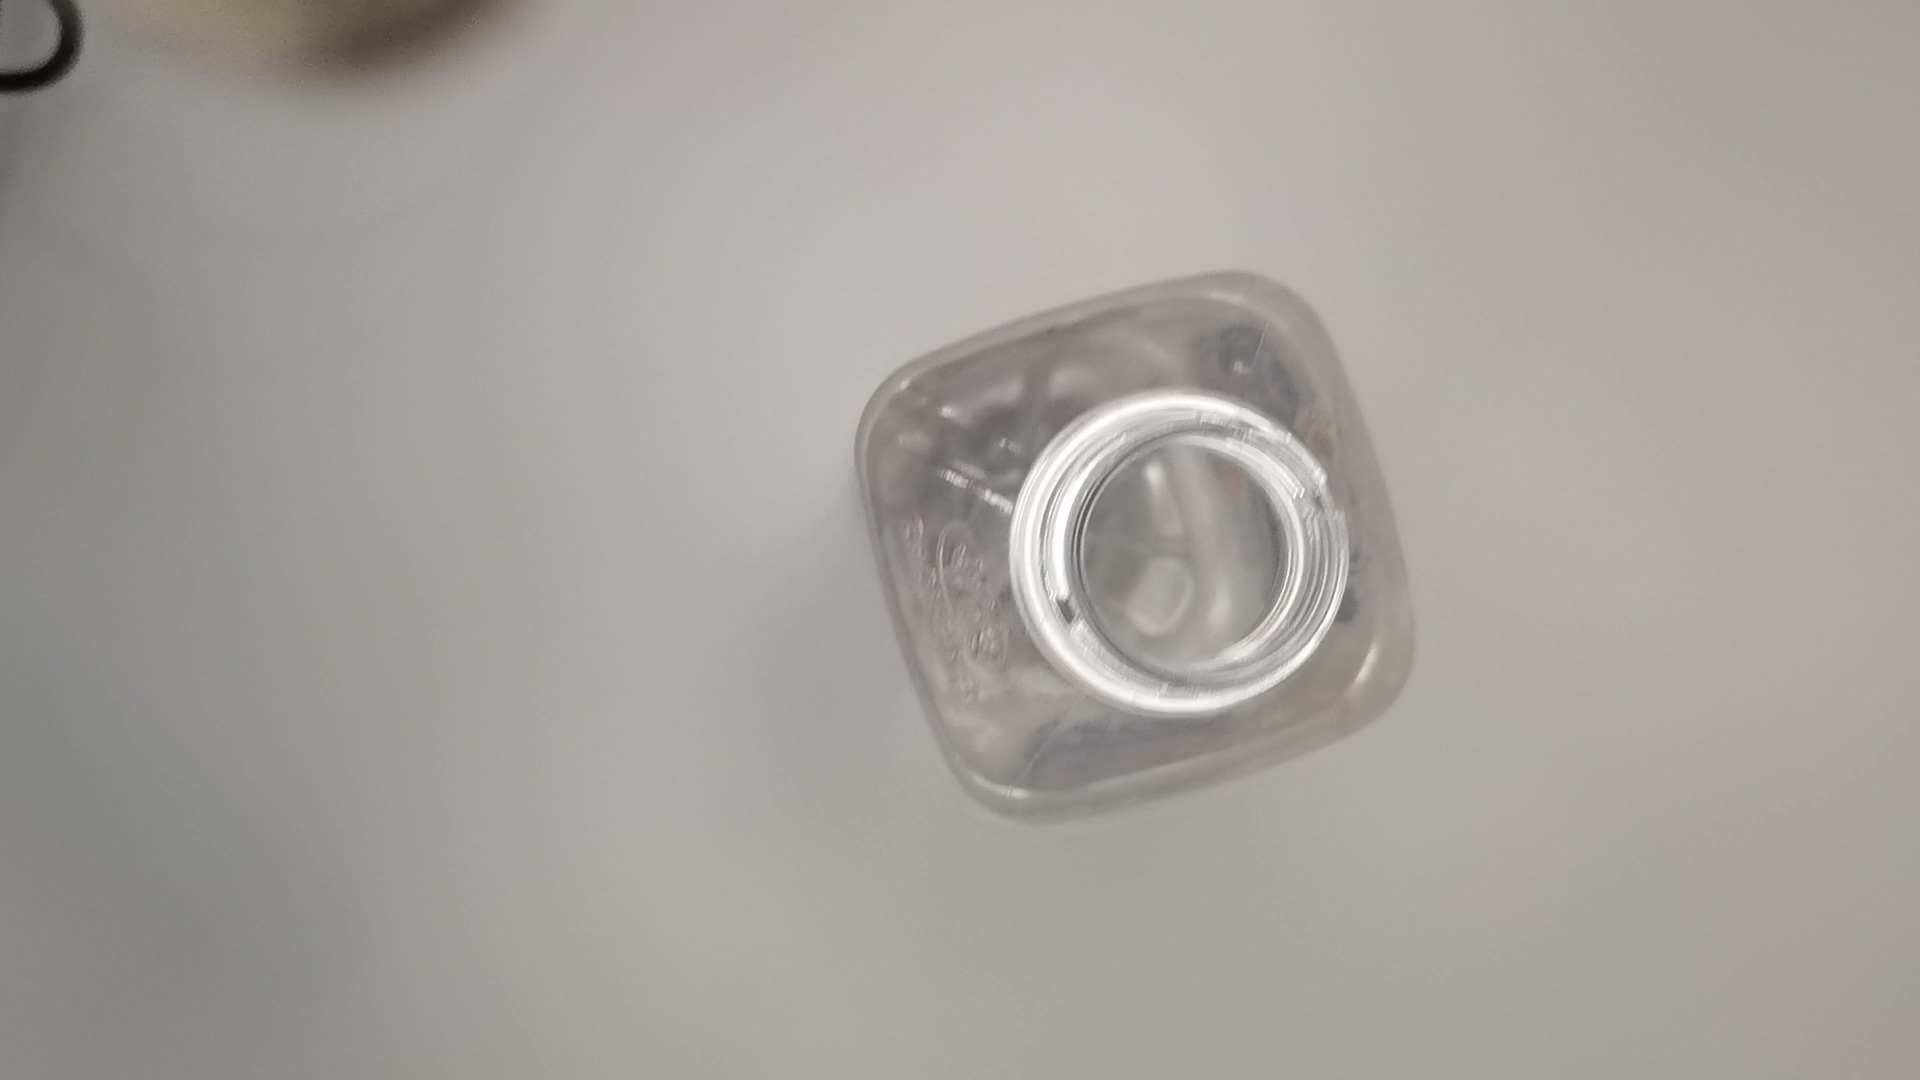bottle: (855, 262, 1423, 829)
